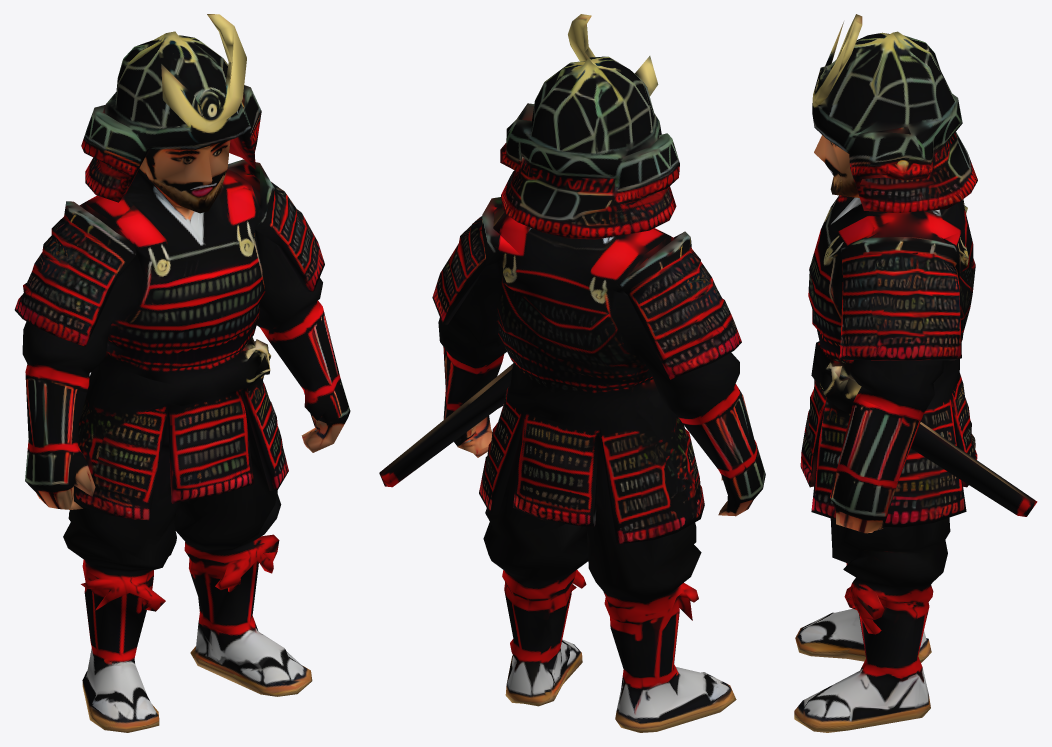
File: samurai-miora.glb
The picture shows the model from 3 angles, left to right: view 1: azimuth 30°, elevation 25°; view 2: azimuth 150°, elevation 25°; view 3: azimuth 270°, elevation 25°; orthographic projection.
Parts seen in each view (by area): view 1: material; view 2: material; view 3: material.
Boxes of the visible parts, <box> form: material: <box>14,14,350,732</box>; material: <box>379,14,765,732</box>; material: <box>794,14,1037,732</box>.
Bounding box in the file's own units: 0.9197 × 1.9 × 0.6151.
Materials: 1 (1 with a texture image).
